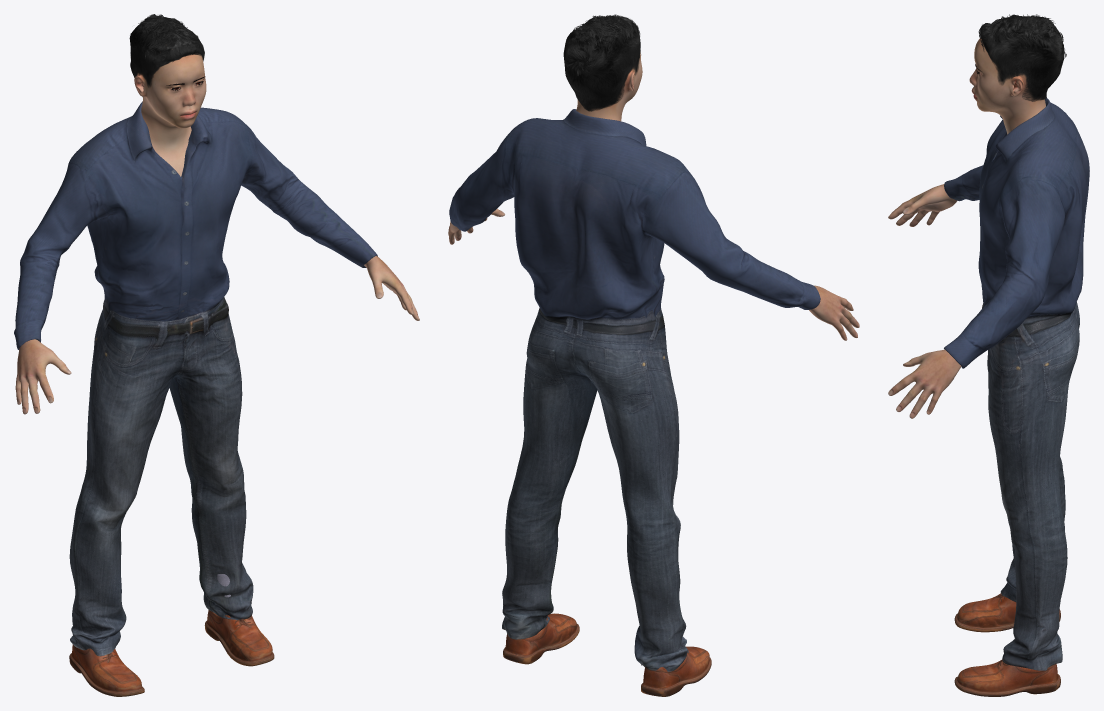
Rendered from human_demo.glb.
3 renders of one model, left to right at view 1: azimuth 30°, elevation 25°; view 2: azimuth 150°, elevation 25°; view 3: azimuth 270°, elevation 25°, orthographic.
Visible parts, largest first — view 1: HumanTwin_Adult_Avatar_V2; view 2: HumanTwin_Adult_Avatar_V2; view 3: HumanTwin_Adult_Avatar_V2.
Part boxes in pixels (left/top/right/bottom): HumanTwin_Adult_Avatar_V2: left=14, top=14, right=419, bottom=696; HumanTwin_Adult_Avatar_V2: left=448, top=14, right=859, bottom=696; HumanTwin_Adult_Avatar_V2: left=888, top=14, right=1089, bottom=696.
Bounding box in the file's own units: 1.16 × 1.8 × 0.5144.
Materials: 7 (7 with a texture image).
